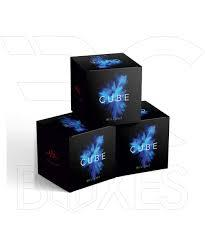cube: (35, 112, 113, 193), (69, 54, 144, 123)
